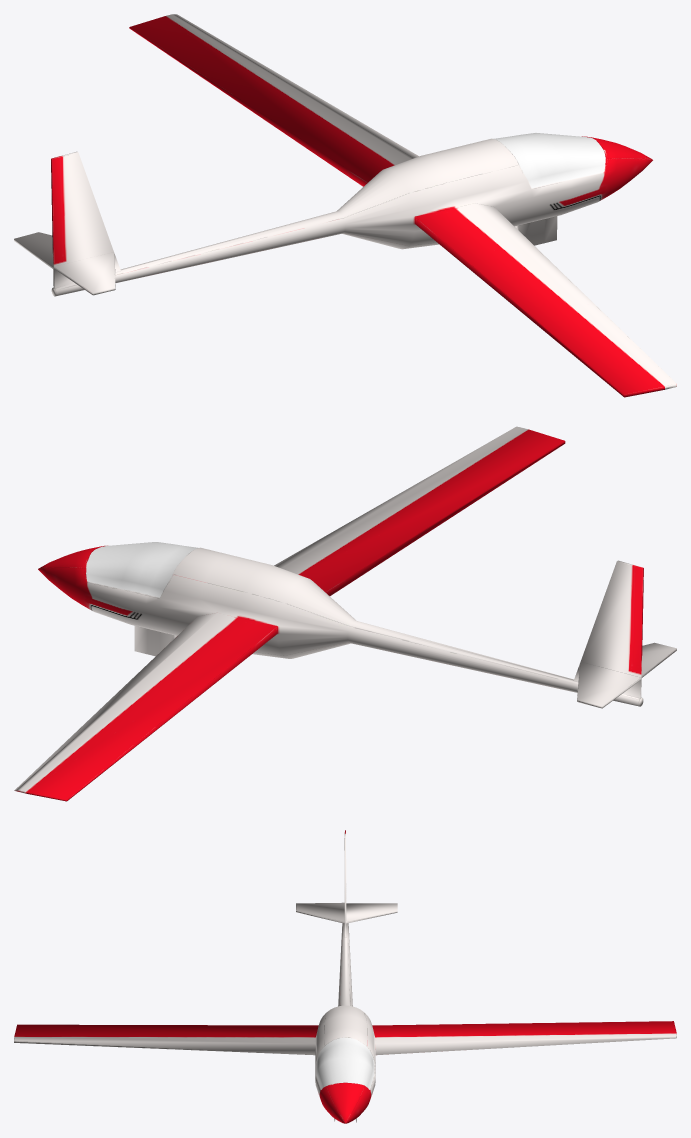
File: LAK12FinishedGLTF.gltf
3 renders of one model, top to bottom at view 1: azimuth 30°, elevation 25°; view 2: azimuth 150°, elevation 25°; view 3: azimuth 270°, elevation 25°, orthographic. The views are drawn at different scales.
Visible parts, largest first — view 1: Cylinder; view 2: Cylinder; view 3: Cylinder.
Boxes of the visible parts, x1,y1,x2,y2 form: Cylinder: [14, 14, 676, 397]; Cylinder: [14, 426, 676, 801]; Cylinder: [14, 830, 676, 1123].
Bounding box in the file's own units: 15.22 × 4.79 × 21.88.
Materials: 2 (1 with a texture image).
